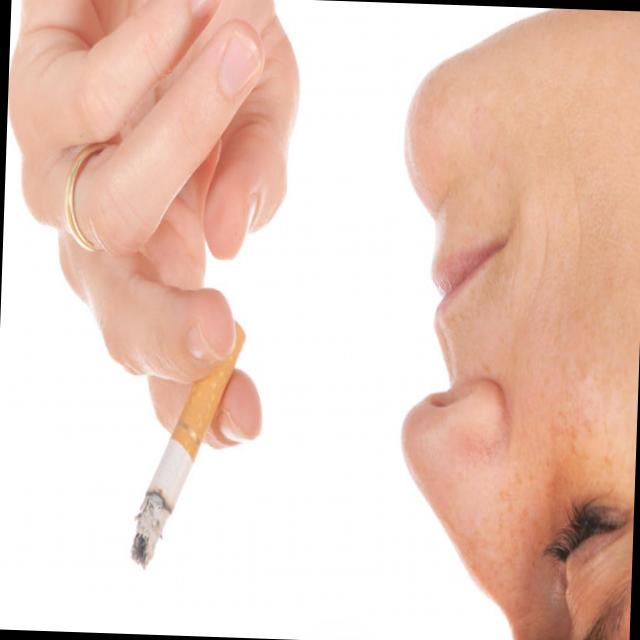smoke: (126, 393, 218, 562)
